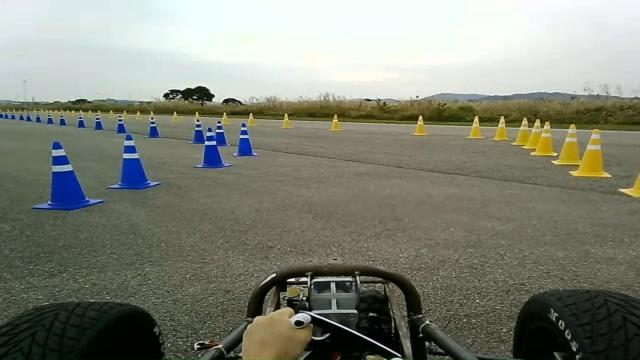blue cone: (31, 140, 104, 210), (106, 134, 162, 190), (192, 134, 232, 168), (232, 122, 258, 157)
yellow cone: (568, 128, 614, 178), (551, 124, 581, 165), (532, 119, 559, 159), (522, 119, 543, 149), (618, 172, 640, 198), (489, 116, 512, 140), (511, 117, 530, 145), (465, 115, 485, 139), (410, 114, 428, 136), (328, 113, 343, 131), (565, 124, 577, 138)
